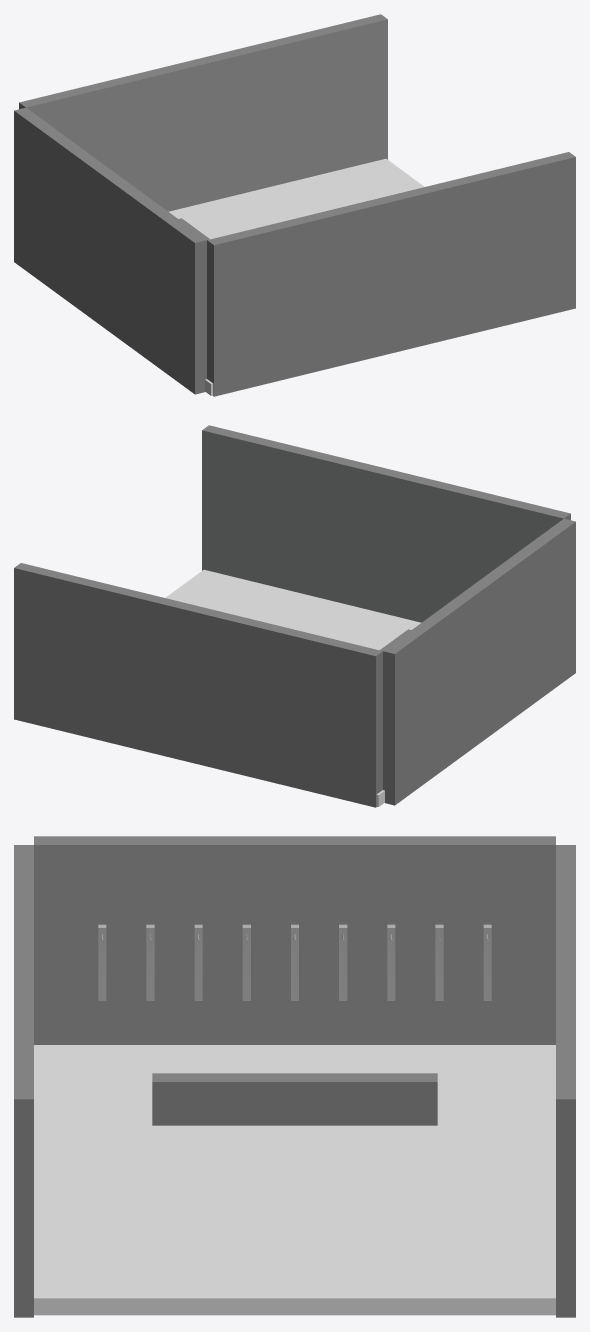
Rendered from SHOWER + FLOOR.fbx.
The picture shows the model from 3 angles, top to bottom: view 1: azimuth 30°, elevation 25°; view 2: azimuth 150°, elevation 25°; view 3: azimuth 270°, elevation 25°; orthographic projection. The views are drawn at different scales.
Visible parts, largest first — view 1: rest room, rest room.001; view 2: rest room, rest room.001; view 3: rest room, rest room.001.
Boxes of the visible parts, <box> form: rest room: <box>14,14,575,396</box>; rest room.001: <box>168,158,424,395</box>; rest room: <box>14,425,575,807</box>; rest room.001: <box>165,569,421,806</box>; rest room: <box>14,836,575,1317</box>; rest room.001: <box>34,1045,555,1315</box>.
Size of the model in its own units: 14 by 15.5 by 6.
